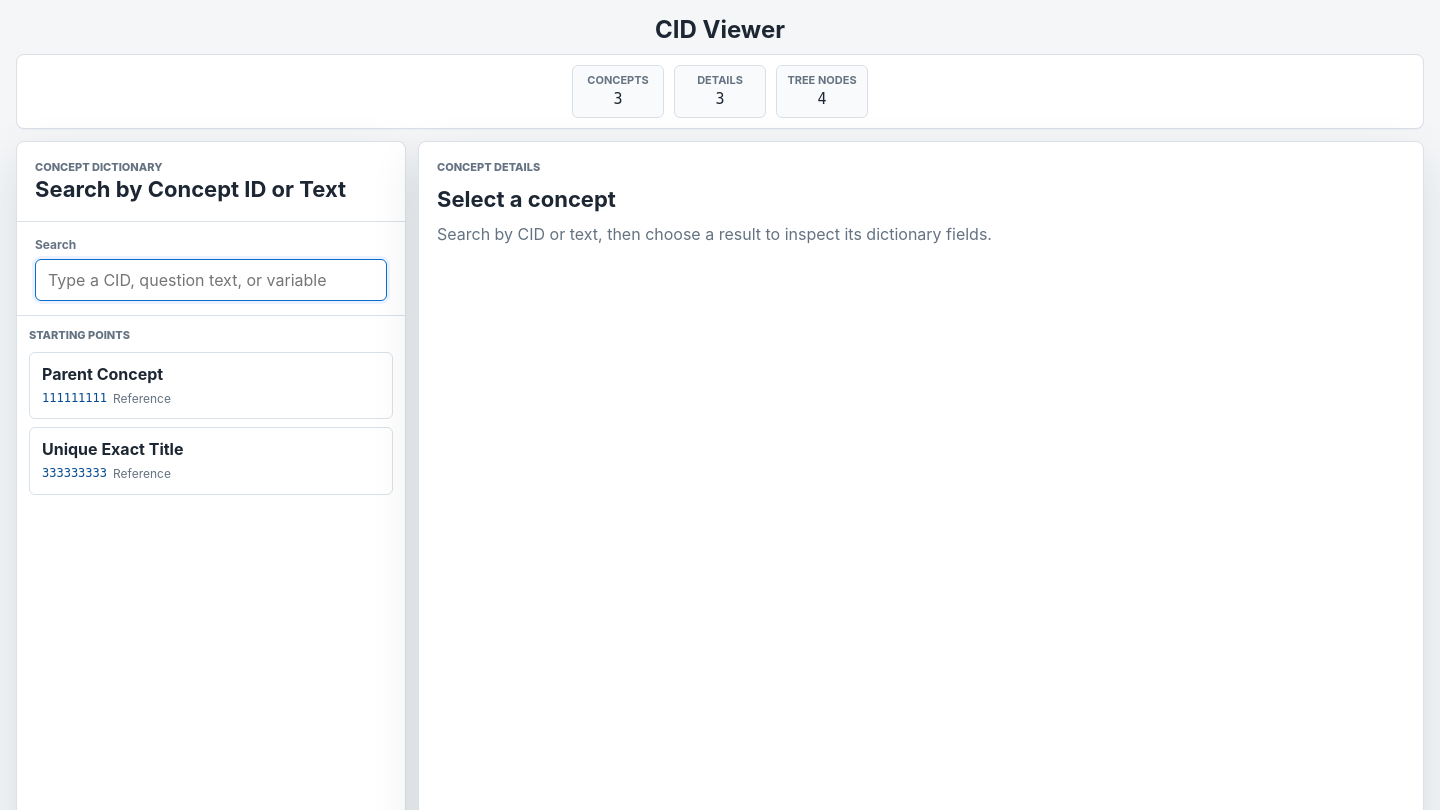
it: App search and selection › syncs the search input when a displayed concept ID link is clicked
What coordinates should you click on to do the following:
click the button "Parent Concept 111111111 Reference"
I would click on:
 (103, 374)
Its box is 29,352 -> 393,419.
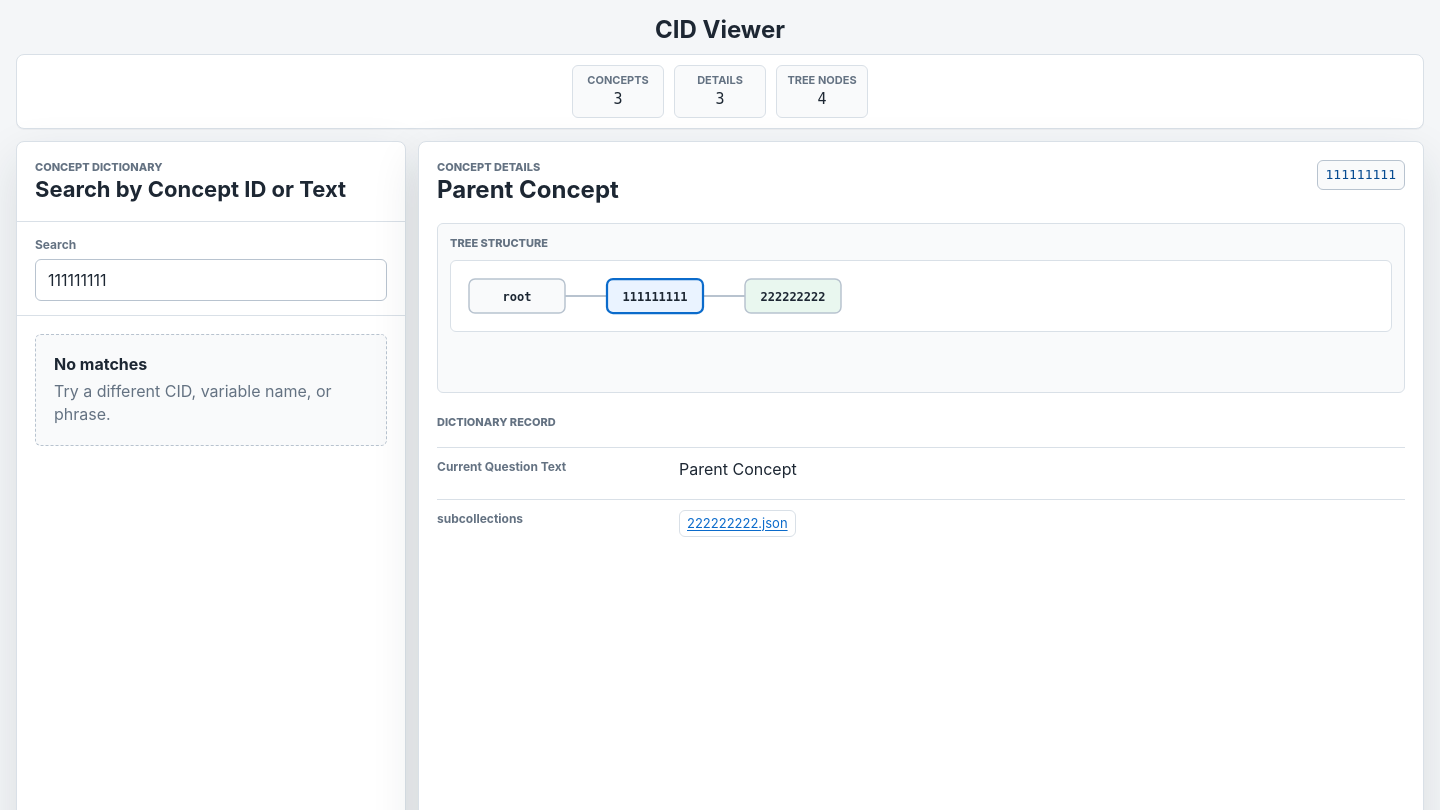
Expected: the search field labelled "Search" holds "111111111", 35,259 -> 387,301
Expected: the heading "Parent Concept" is shown, 437,176 -> 619,205
What coordinates should you click on to do the following:
click the button "222222222.json"
I would click on:
 (737, 524)
Its box is 687,514 -> 788,533.
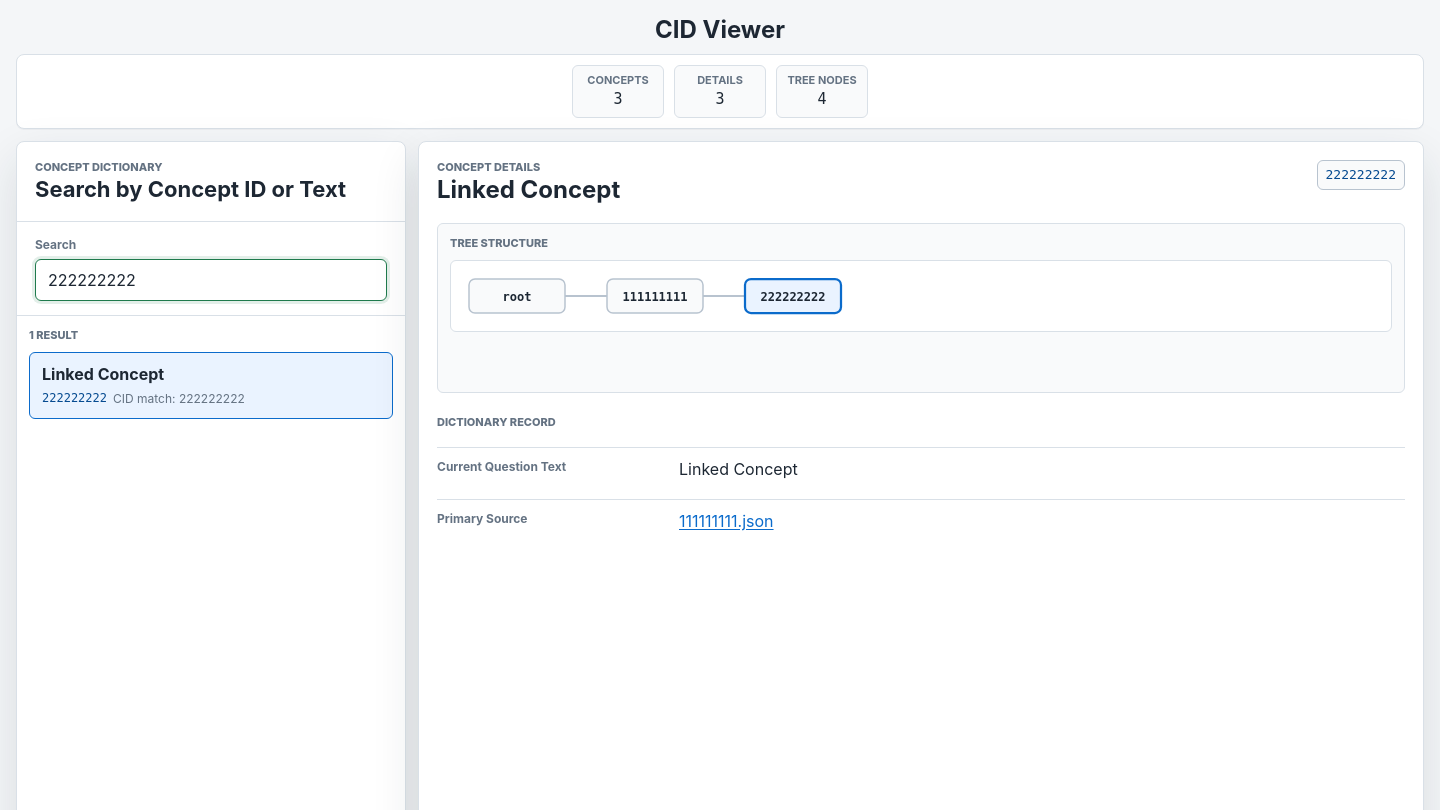
Expected: the search field labelled "Search" holds "222222222", 35,259 -> 387,301
Expected: the heading "Linked Concept" is shown, 437,176 -> 620,205
